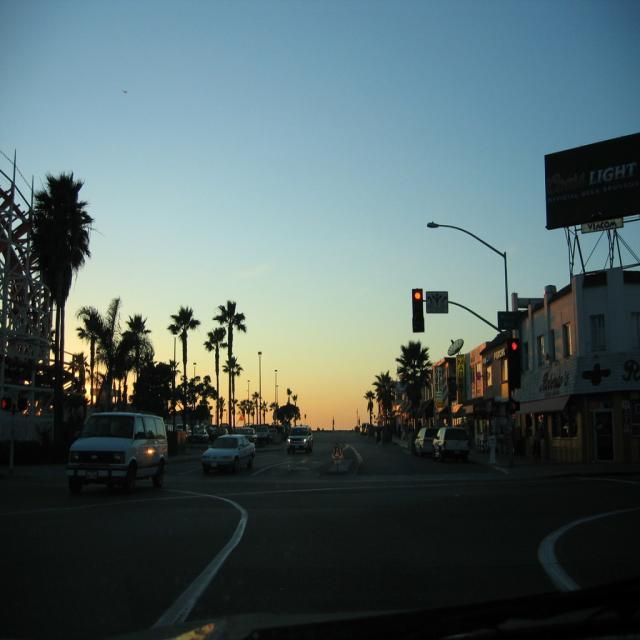traffic light: (507, 340, 521, 389), (411, 289, 424, 333)
